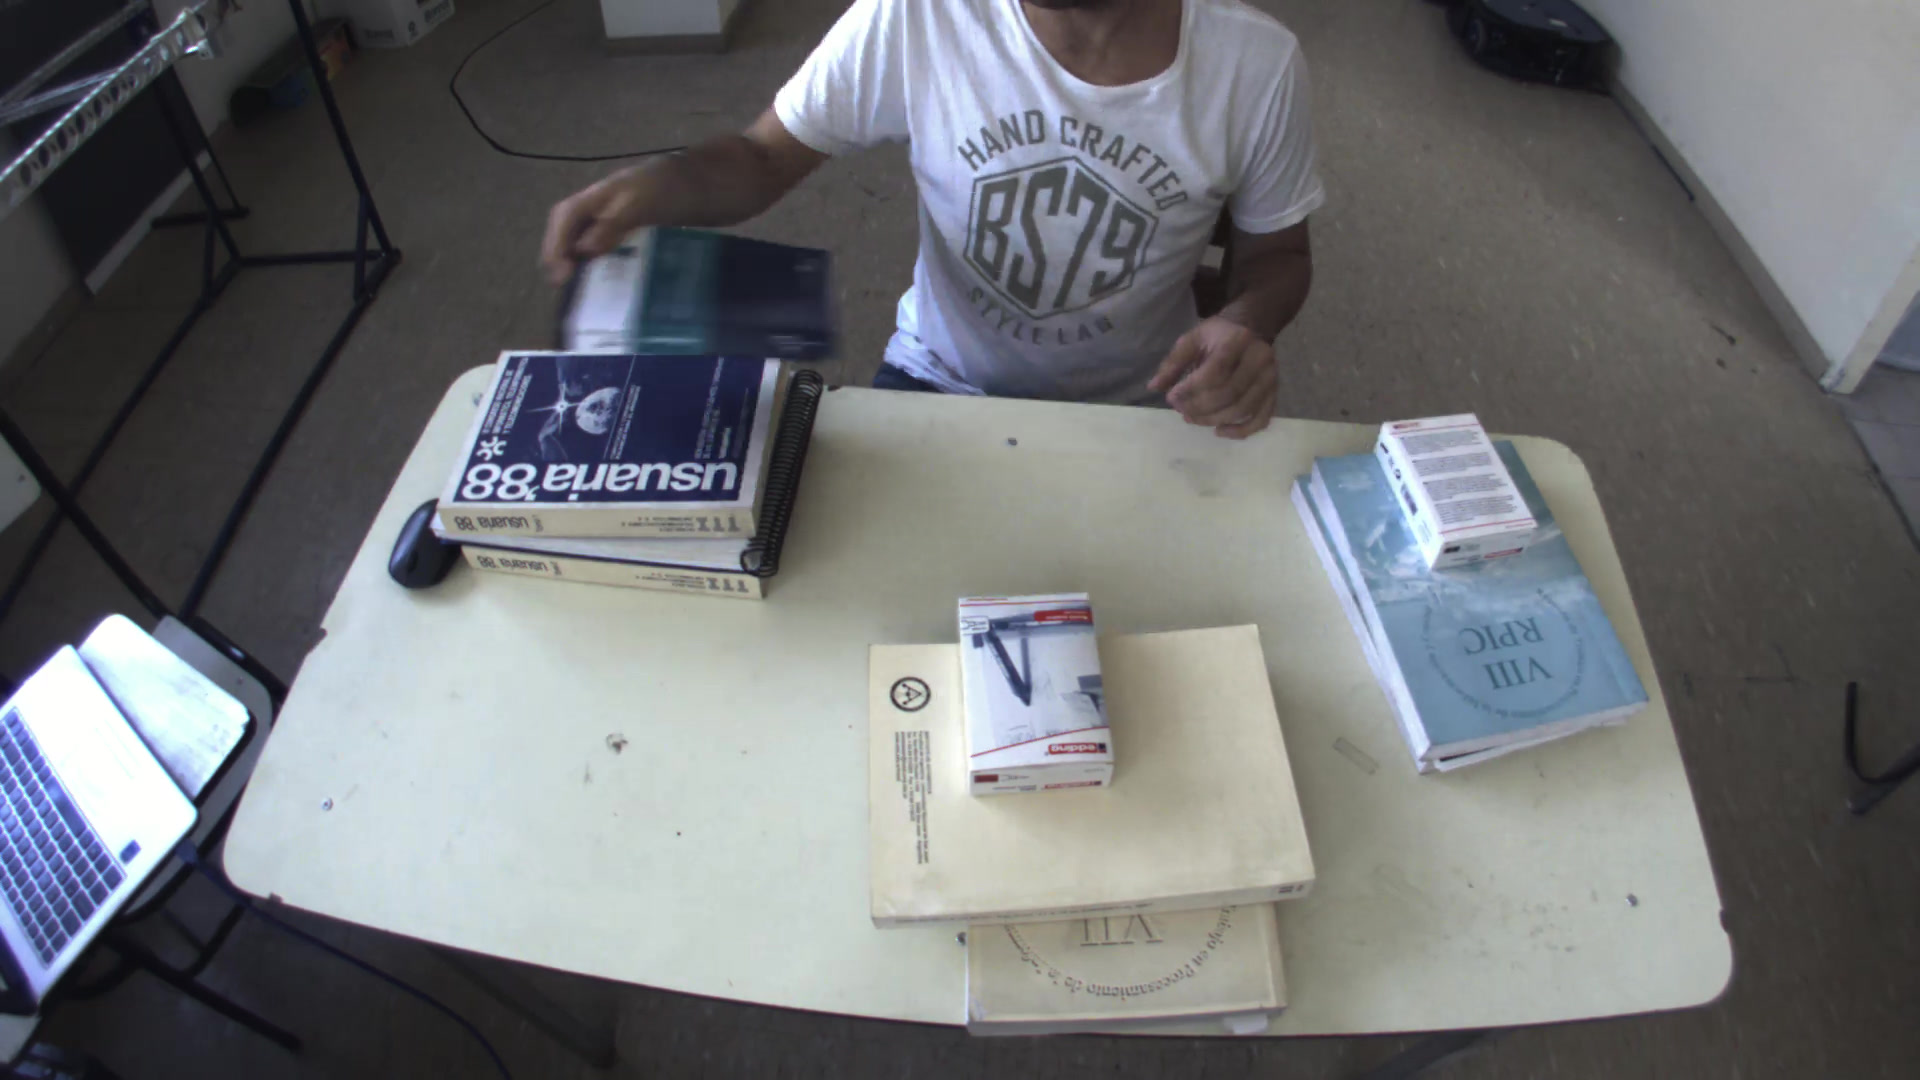hand: (1143, 301, 1298, 442), (527, 152, 651, 276)
